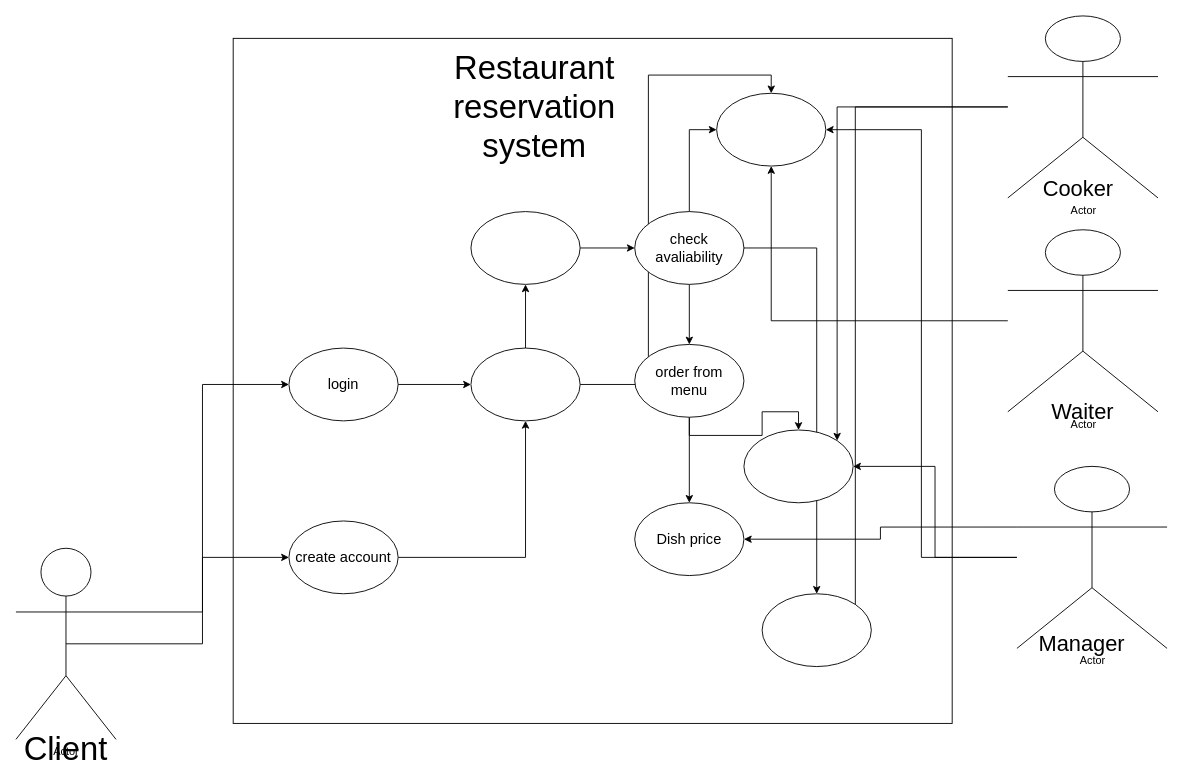
This 1183x784 diagram has some shape labels left out. Here are the shapes that lost their labels. From the top down, the centre of each, then its label:
At (x=771, y=129): "Table number and client name".
At (x=525, y=247): "reserve table".
At (x=525, y=384): "verification".
At (x=798, y=466): "The Order".
At (x=816, y=630): "Table number".
